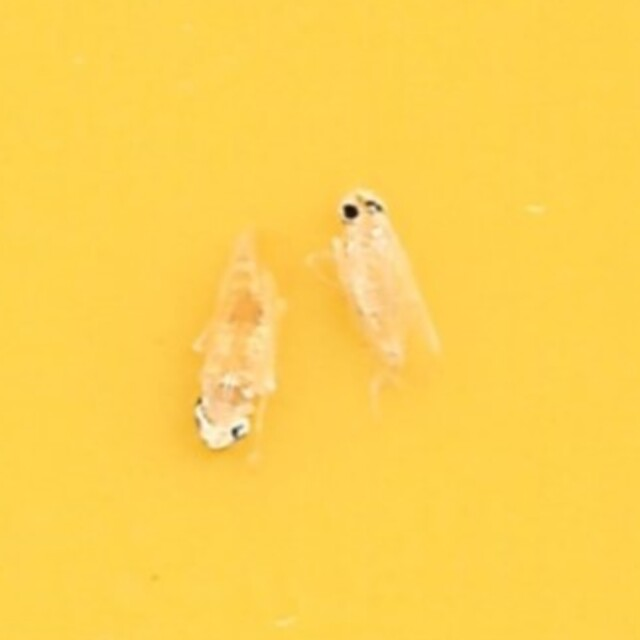Hemiptera: (325, 189, 443, 370), (197, 251, 288, 451)
